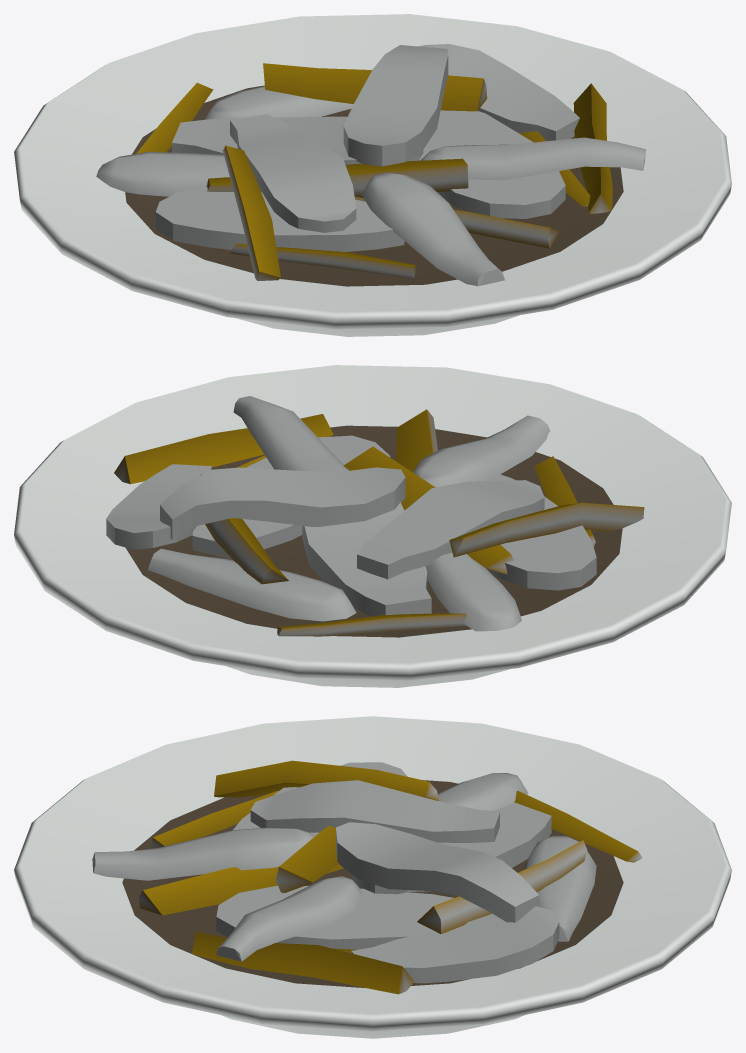
The picture shows the model from 3 angles, top to bottom: view 1: azimuth 30°, elevation 25°; view 2: azimuth 150°, elevation 25°; view 3: azimuth 270°, elevation 25°; orthographic projection.
Visible parts, largest first — view 1: G:\FFXIV-MapTools\exports\y6f3\bg\ex5\02_ykt_y6\fld\y6f3\bgp (×4); view 2: G:\FFXIV-MapTools\exports\y6f3\bg\ex5\02_ykt_y6\fld\y6f3\bgp (×4); view 3: G:\FFXIV-MapTools\exports\y6f3\bg\ex5\02_ykt_y6\fld\y6f3\bgp (×4).
Part boxes in pixels (x1=…): G:\FFXIV-MapTools\exports\y6f3\bg\ex5\02_ykt_y6\fld\y6f3\bgp (×4): x1=14, y1=14, x2=731, y2=336; G:\FFXIV-MapTools\exports\y6f3\bg\ex5\02_ykt_y6\fld\y6f3\bgp (×4): x1=14, y1=365, x2=731, y2=687; G:\FFXIV-MapTools\exports\y6f3\bg\ex5\02_ykt_y6\fld\y6f3\bgp (×4): x1=14, y1=716, x2=731, y2=1038.
Bounding box in the file's own units: 0.5811 × 0.1052 × 0.5811.
